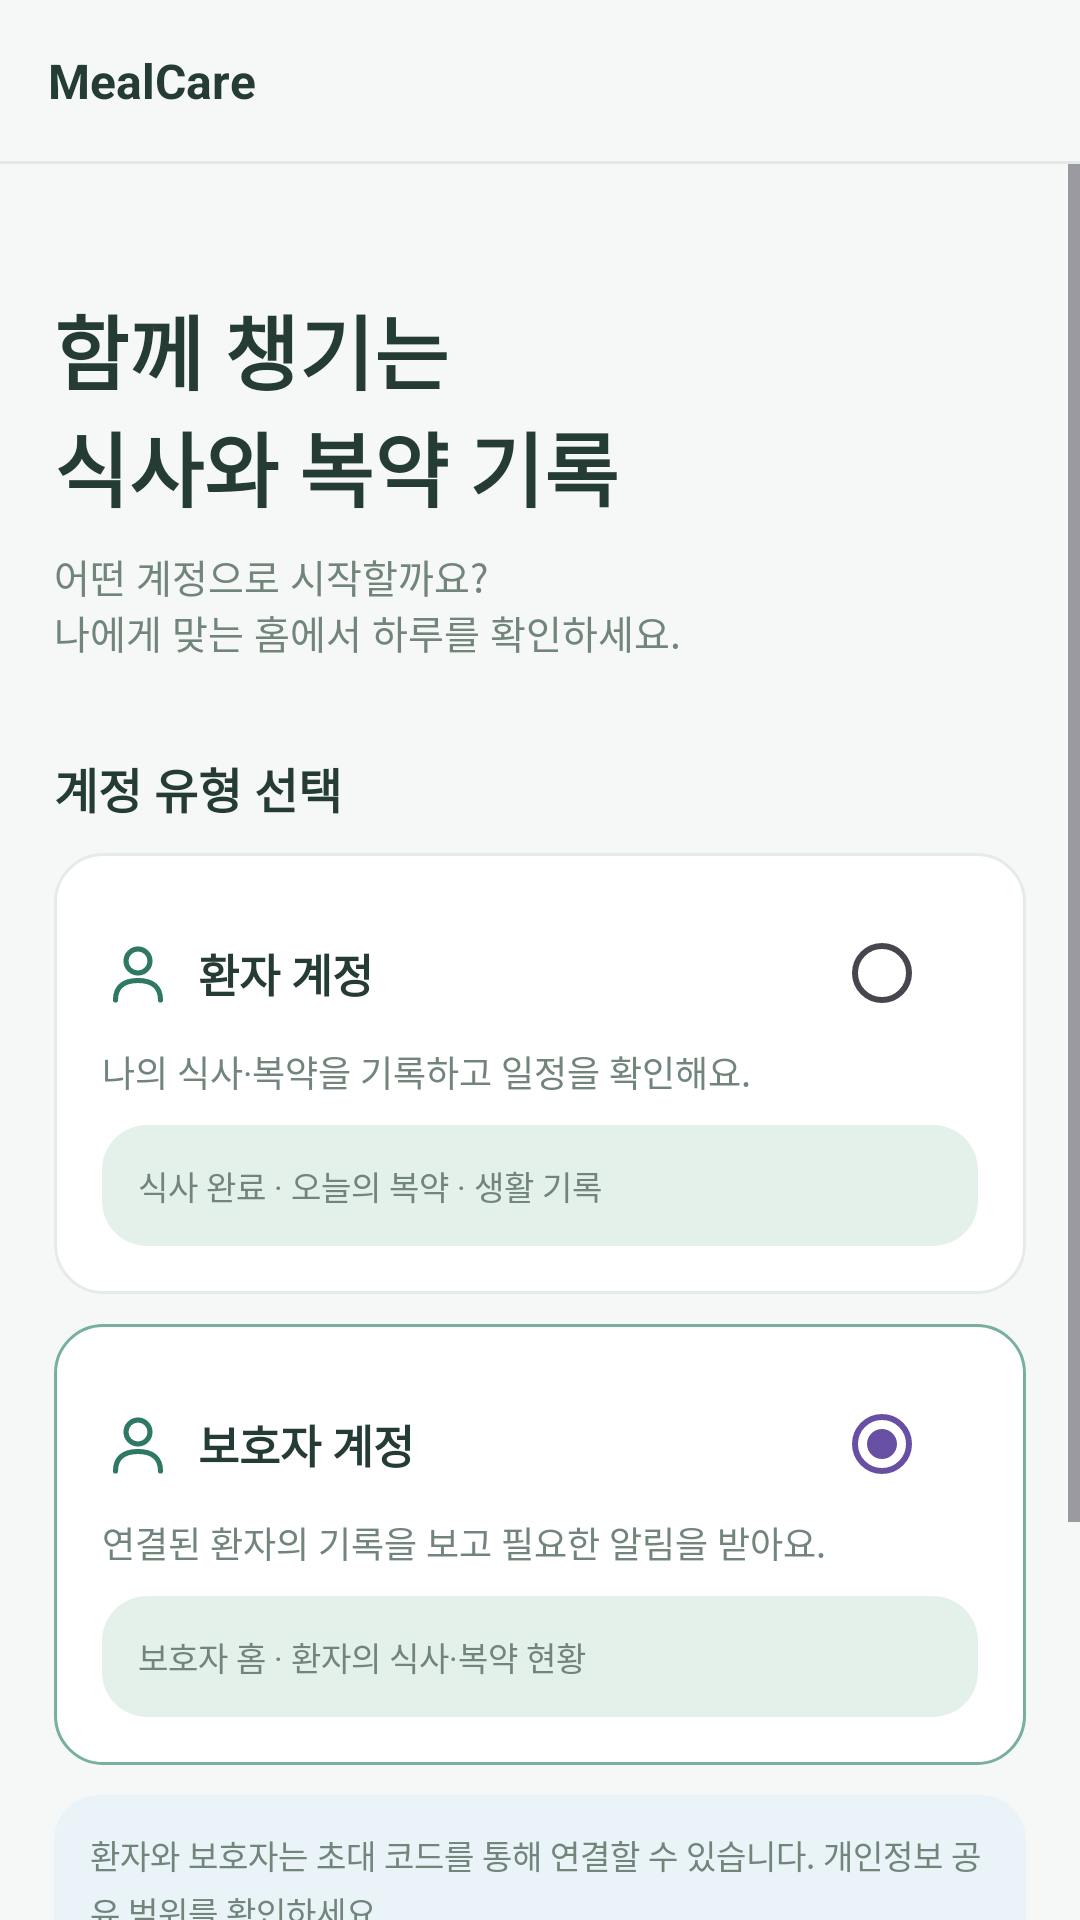

Where icons sit on this 1080w x 1920h app screen, as (x1, y1, x2, y2):
user: (113, 946, 163, 1003), (113, 1417, 163, 1474)
